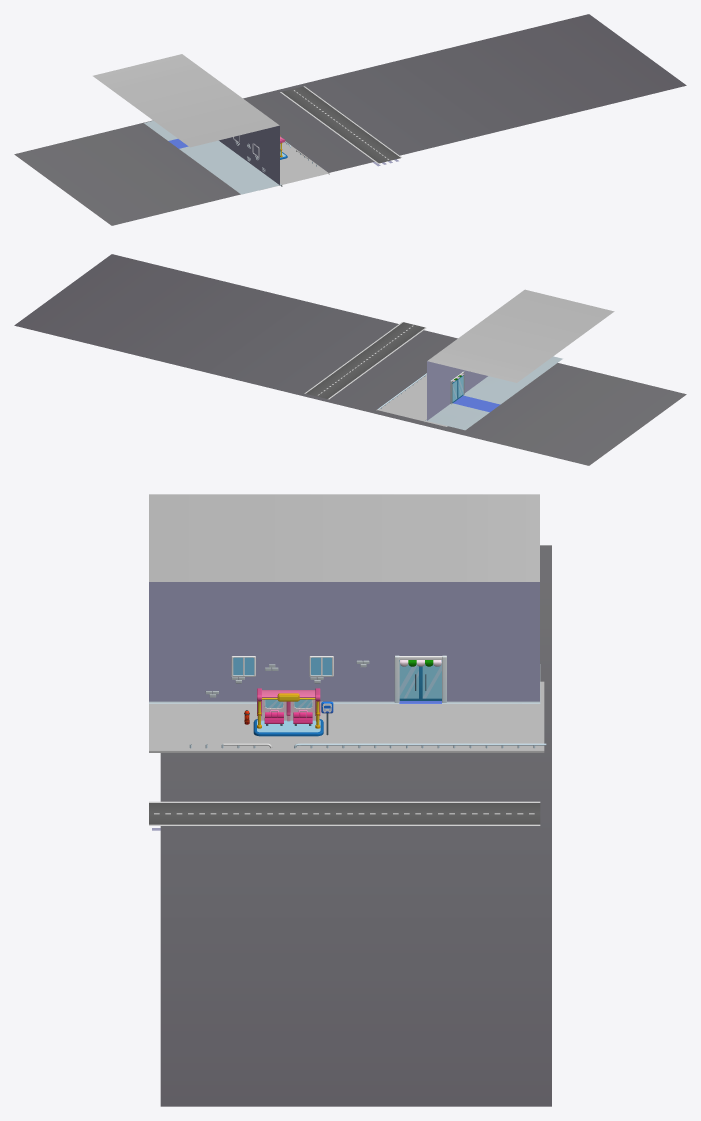
Rendered from map.fbx.
3 renders of one model, top to bottom at view 1: azimuth 30°, elevation 25°; view 2: azimuth 150°, elevation 25°; view 3: azimuth 270°, elevation 25°, orthographic. The views are drawn at different scales.
Visible parts, largest first — view 1: Floor, wall, road, pavement; view 2: Floor, wall, road, pavement; view 3: Floor, wall, pavement, road, bus_stop.
Boxes of the visible parts, <box> form: Floor: <box>14,14,686,225</box>; wall: <box>93,54,282,194</box>; road: <box>280,86,401,163</box>; pavement: <box>259,142,329,190</box>; Floor: <box>14,254,686,465</box>; wall: <box>424,289,614,430</box>; road: <box>304,322,426,399</box>; pavement: <box>376,374,447,426</box>; Floor: <box>160,545,551,1106</box>; wall: <box>149,494,540,703</box>; pavement: <box>149,681,544,752</box>; road: <box>149,801,540,825</box>; bus_stop: <box>244,688,333,736</box>.
Size of the model in its own units: 420 by 45.75 by 127.
